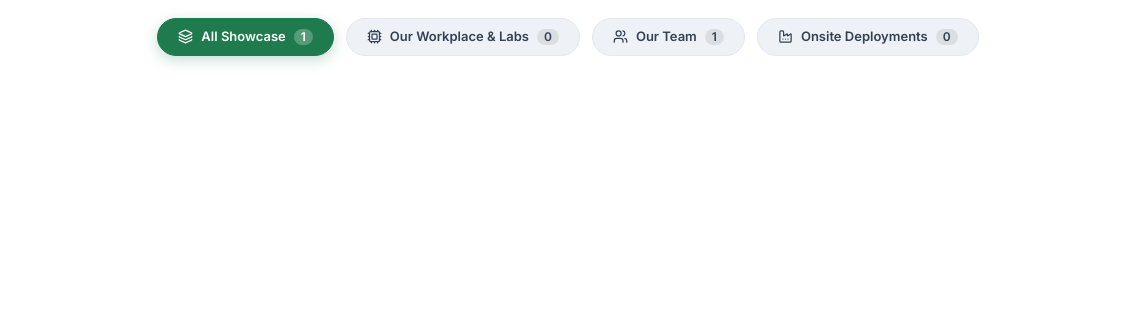
GalleryMosaic Component › renders empty state notice when filtered category has zero items
Click the button "Our Workplace & Labs 0".
click(463, 37)  # box [346,18,580,56]
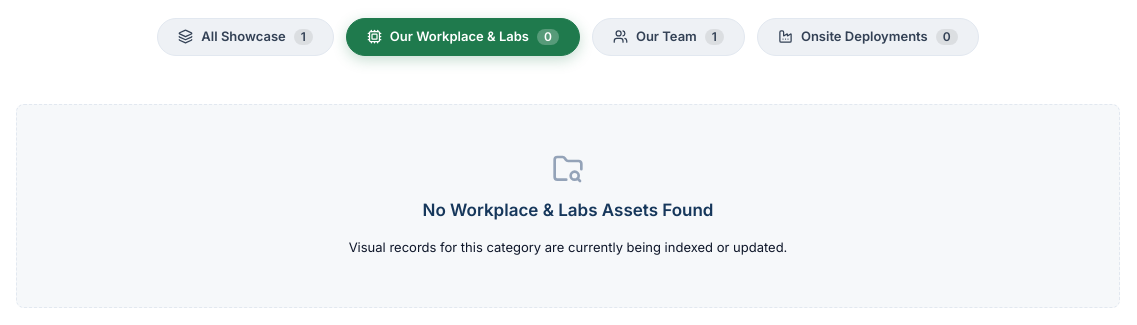
Expected: the text "No Workplace & Labs Assets Found" is shown, [422,197,714,224]
